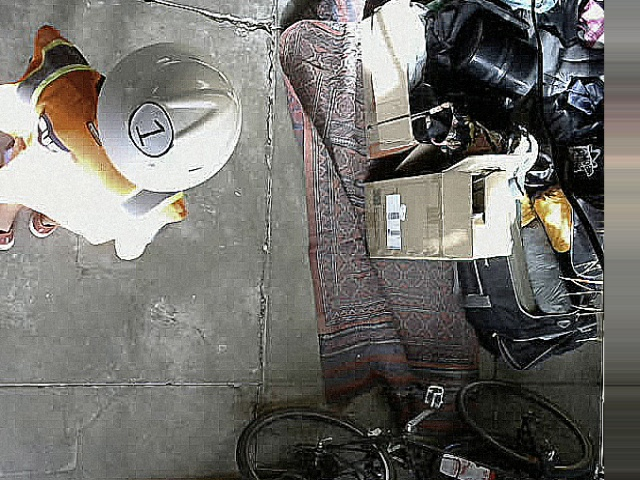one: (127, 102, 172, 159)
